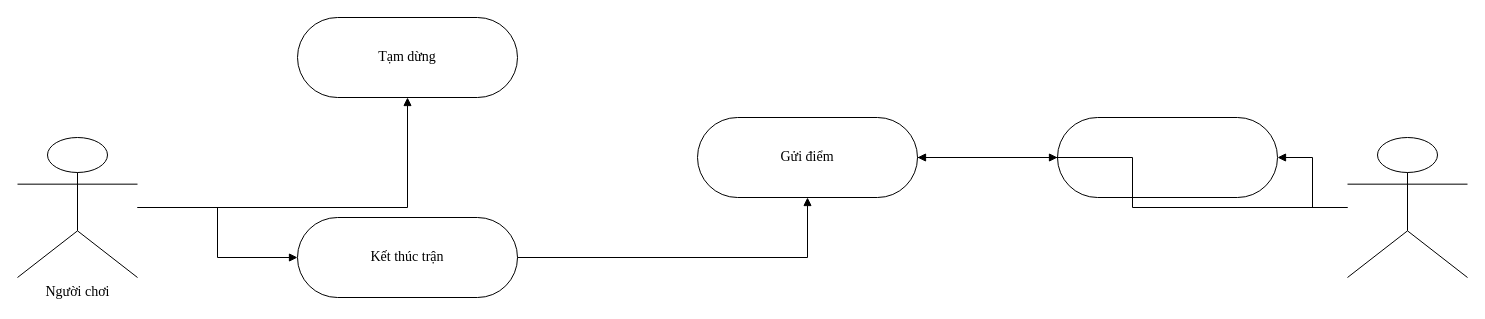
Image size: 1485x319. Some labels were removed from this diagram. Here are the shapes that lost their labels. From the top down, the centre of each, then its label:
(x=1167, y=157): Xem leaderboard
(x=1407, y=207): PlayFab
